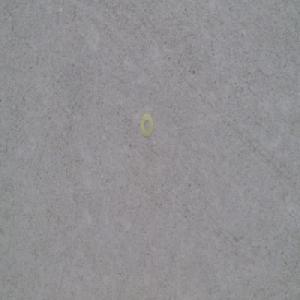Washer: (139, 113, 153, 140)
